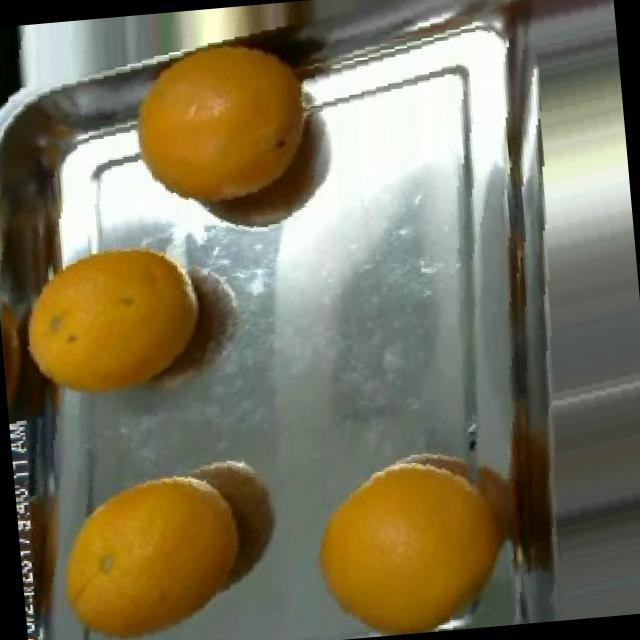Fruit: (0, 210, 230, 429), (33, 446, 266, 640), (0, 23, 46, 134)
